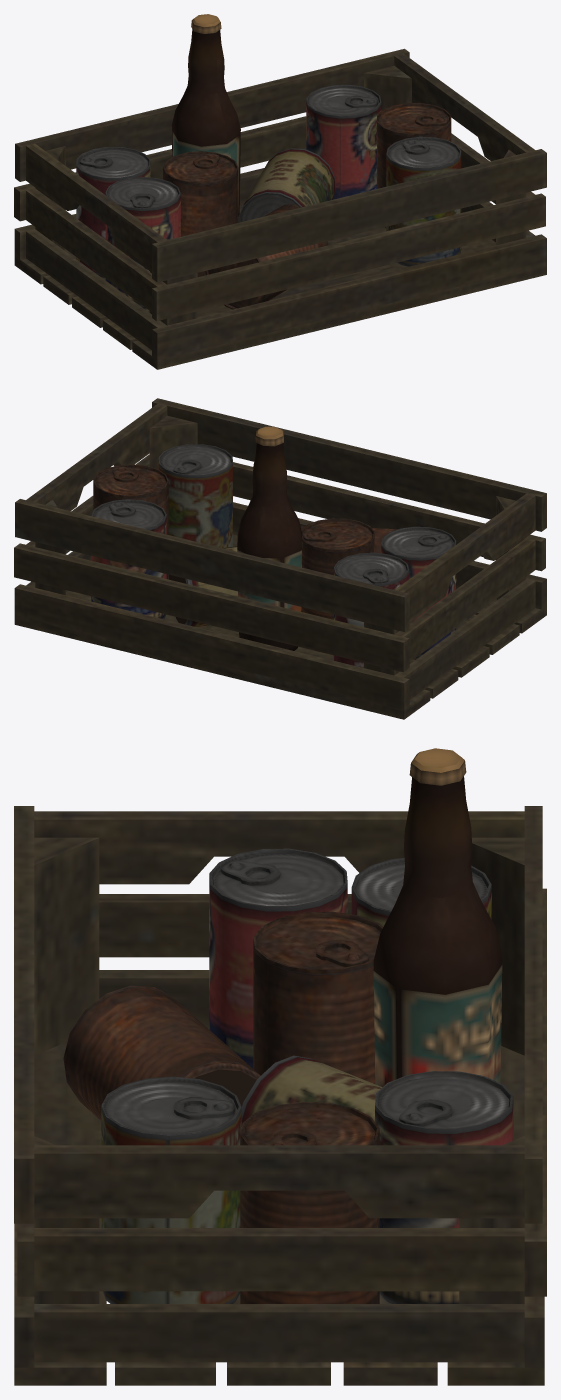
Rendered from supply_crate_1_1.obj.
The picture shows the model from 3 angles, top to bottom: view 1: azimuth 30°, elevation 25°; view 2: azimuth 150°, elevation 25°; view 3: azimuth 270°, elevation 25°; orthographic projection. The views are drawn at different scales.
Parts seen in each view (by area): view 1: supply_crate_1_1; view 2: supply_crate_1_1; view 3: supply_crate_1_1.
Part boxes in pixels (bbox=[...]): supply_crate_1_1: bbox=[14, 14, 546, 369]; supply_crate_1_1: bbox=[14, 398, 546, 719]; supply_crate_1_1: bbox=[14, 748, 546, 1385].
Bounding box in the file's own units: 0.668 × 0.3725 × 0.4262.
